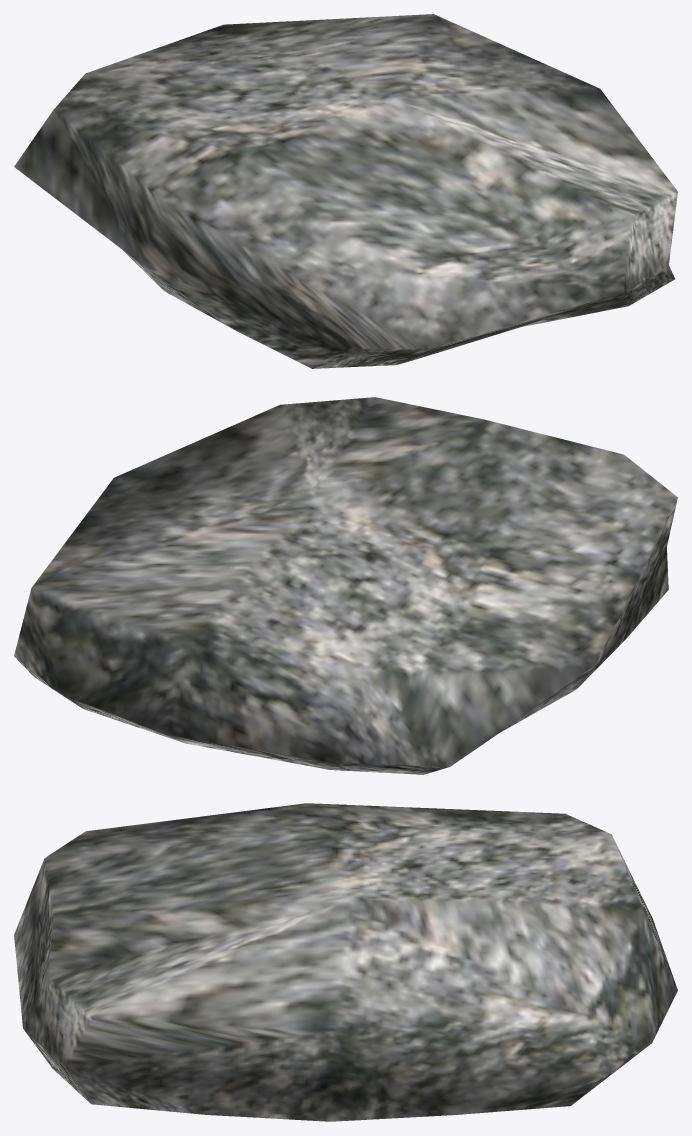
Rendered from stone1_tex2.fbx.
3 renders of one model, top to bottom at view 1: azimuth 30°, elevation 25°; view 2: azimuth 150°, elevation 25°; view 3: azimuth 270°, elevation 25°, orthographic. The views are drawn at different scales.
Visible parts, largest first — view 1: stone1_tex2Object; view 2: stone1_tex2Object; view 3: stone1_tex2Object.
Part boxes in pixels (x1,y1,x2,y2): stone1_tex2Object: (14, 14, 677, 368); stone1_tex2Object: (14, 397, 677, 774); stone1_tex2Object: (14, 803, 677, 1121).
Bounding box in the file's own units: 1.56 × 0.4137 × 1.92.
Materials: 1 (1 with a texture image).
